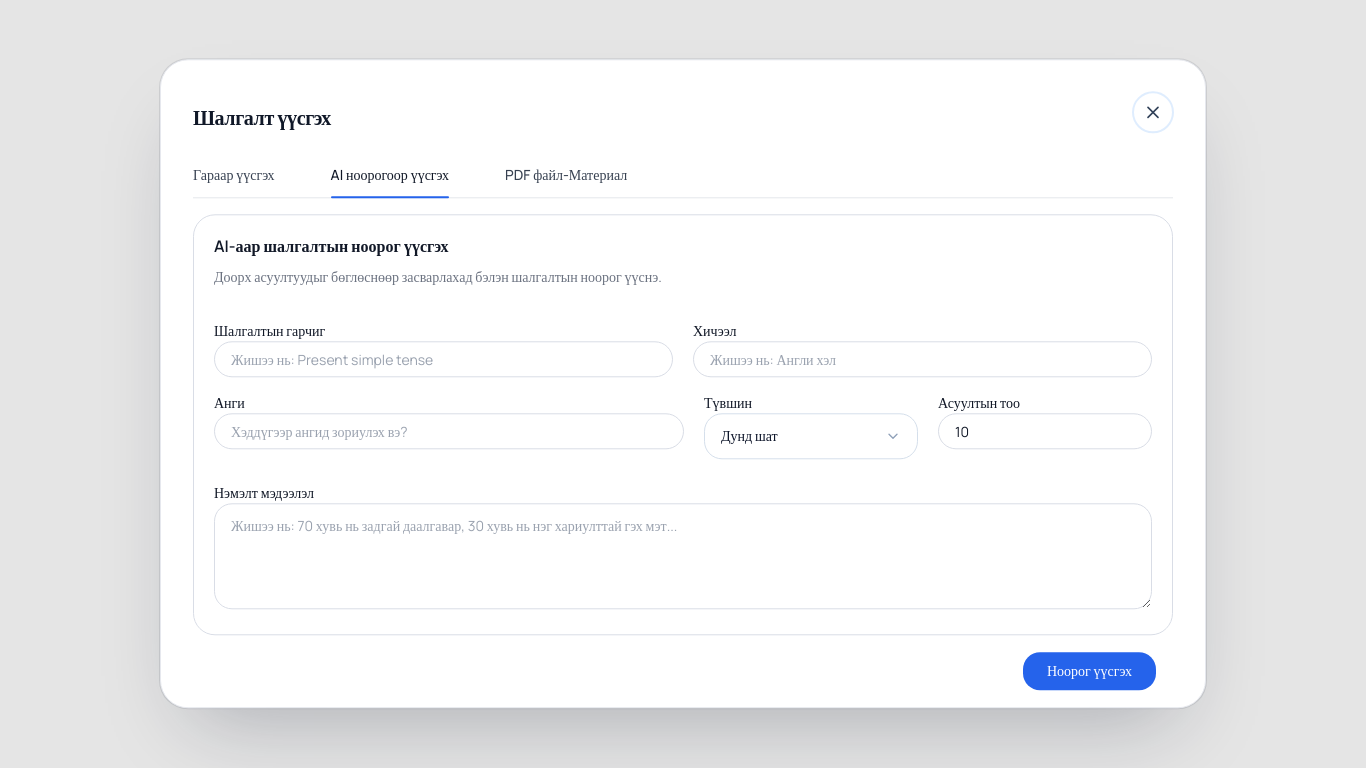
CreateExamDialogContent › blocks manual navigation until a question is added
Click the button "Гараар үүсгэх" at (234, 181), box [193,165,275,197]
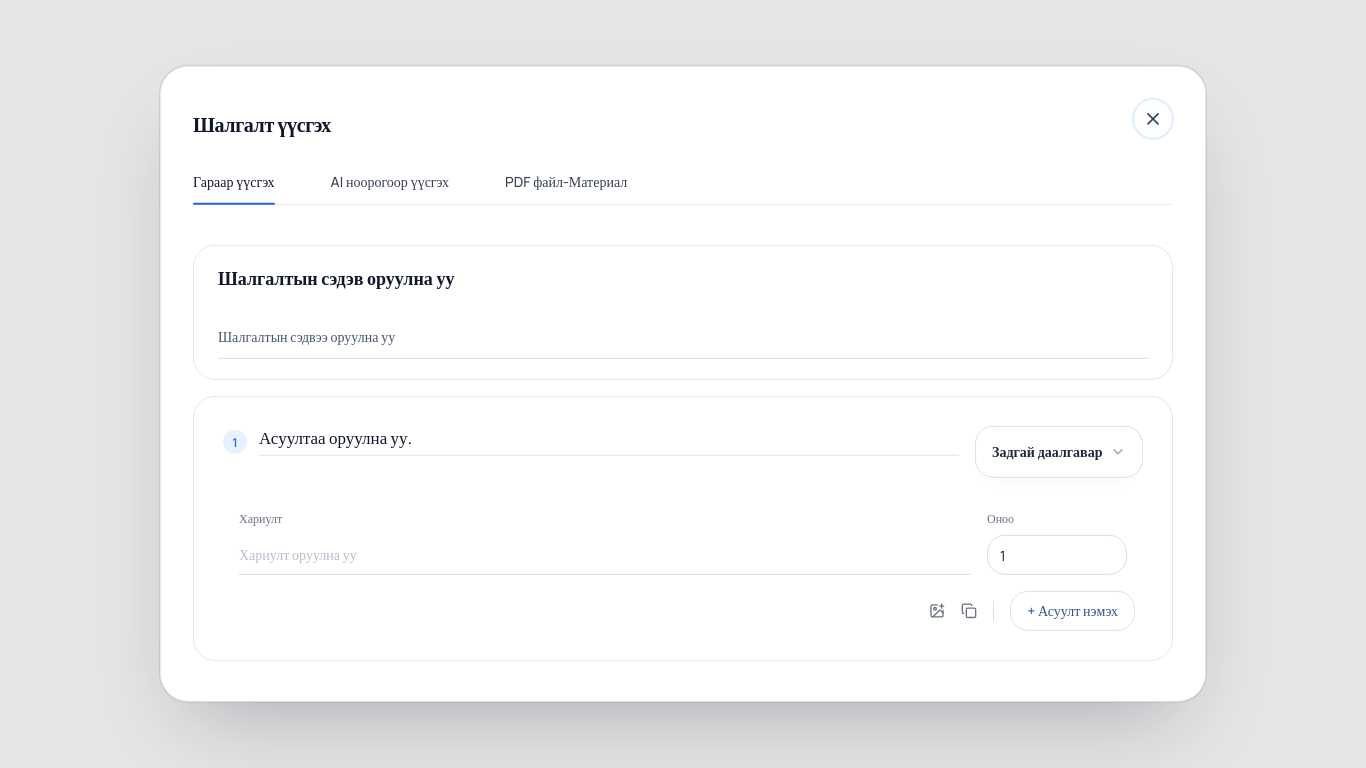
Type "Math quiz" into the field with placeholder "Шалгалтын сэдвээ оруулна уу" at (683, 337), box [218,315,1148,359]
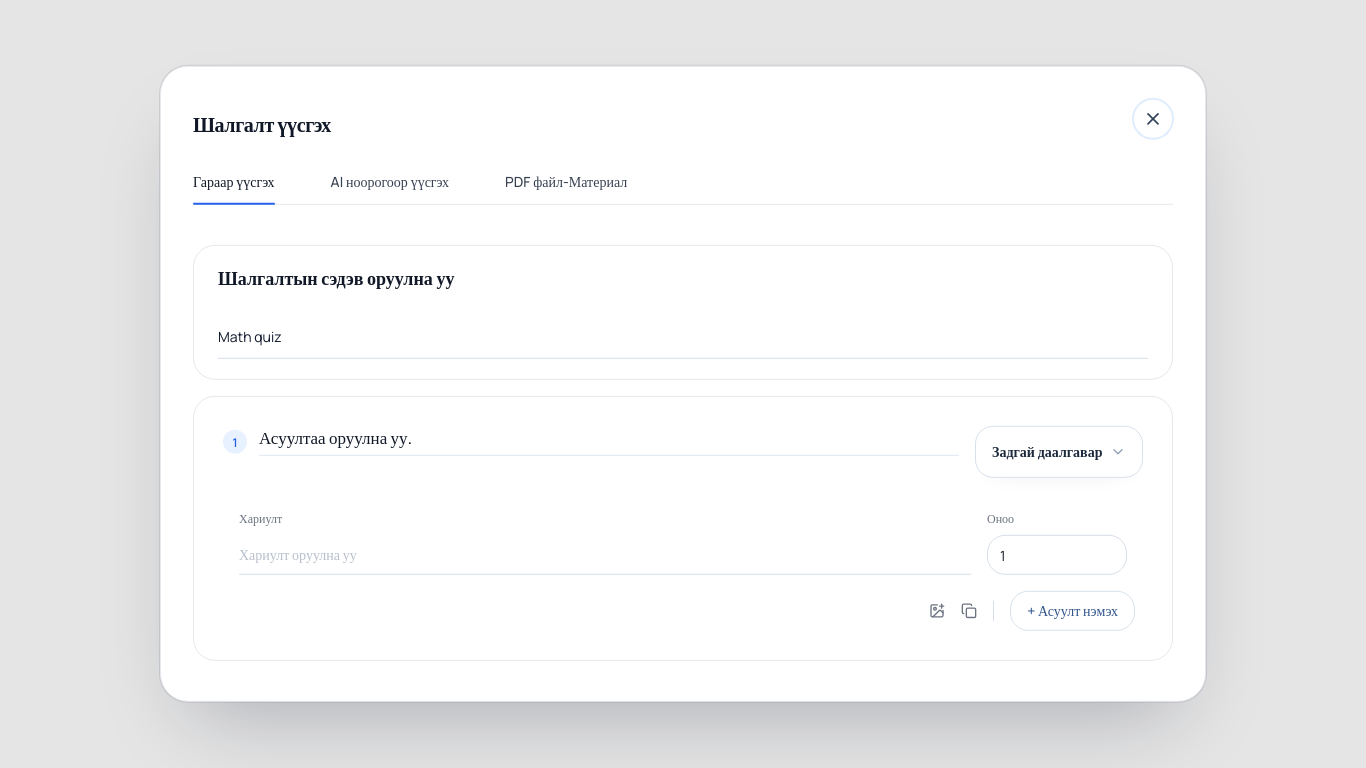
Click the button "+ Асуулт нэмэх" at (1073, 611), box [1010,591,1135,631]
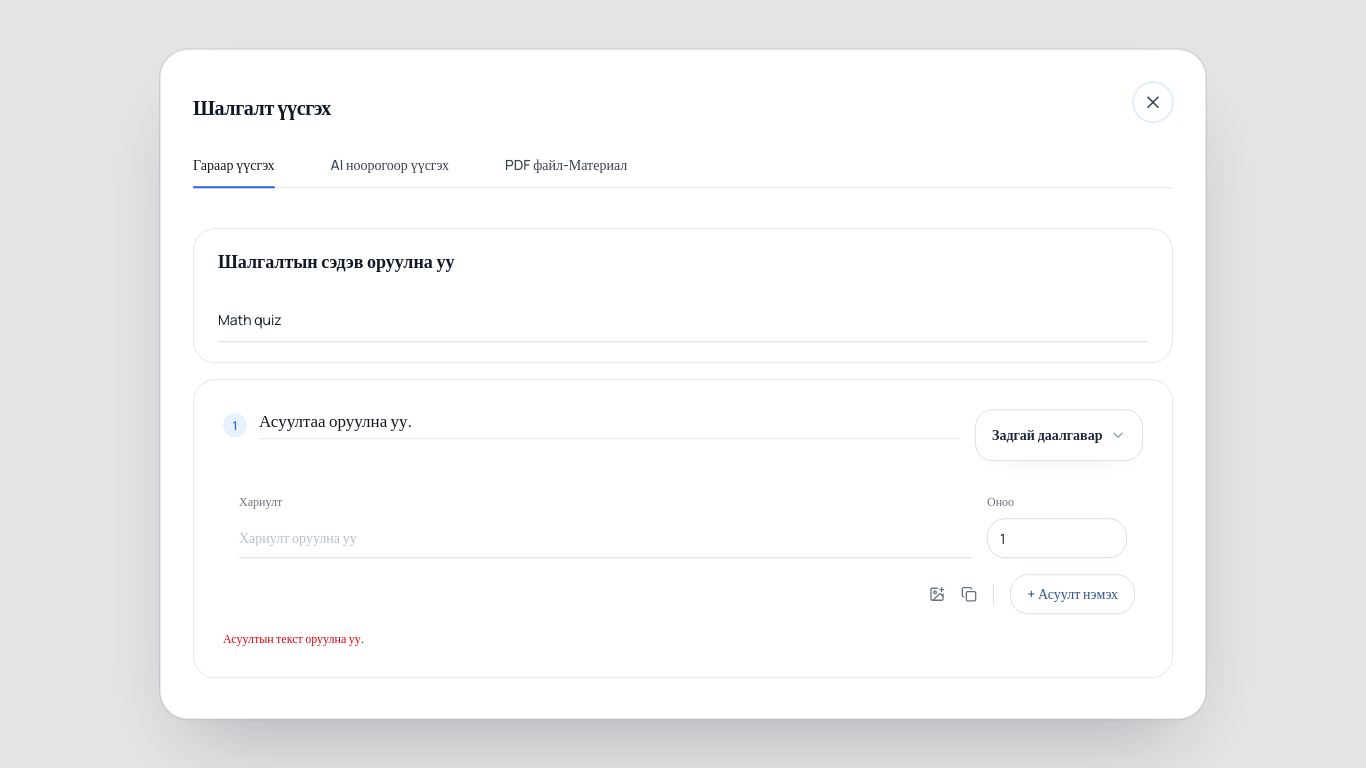
Expected: the text "Асуултын текст оруулна уу." is shown, [223,631,364,648]
